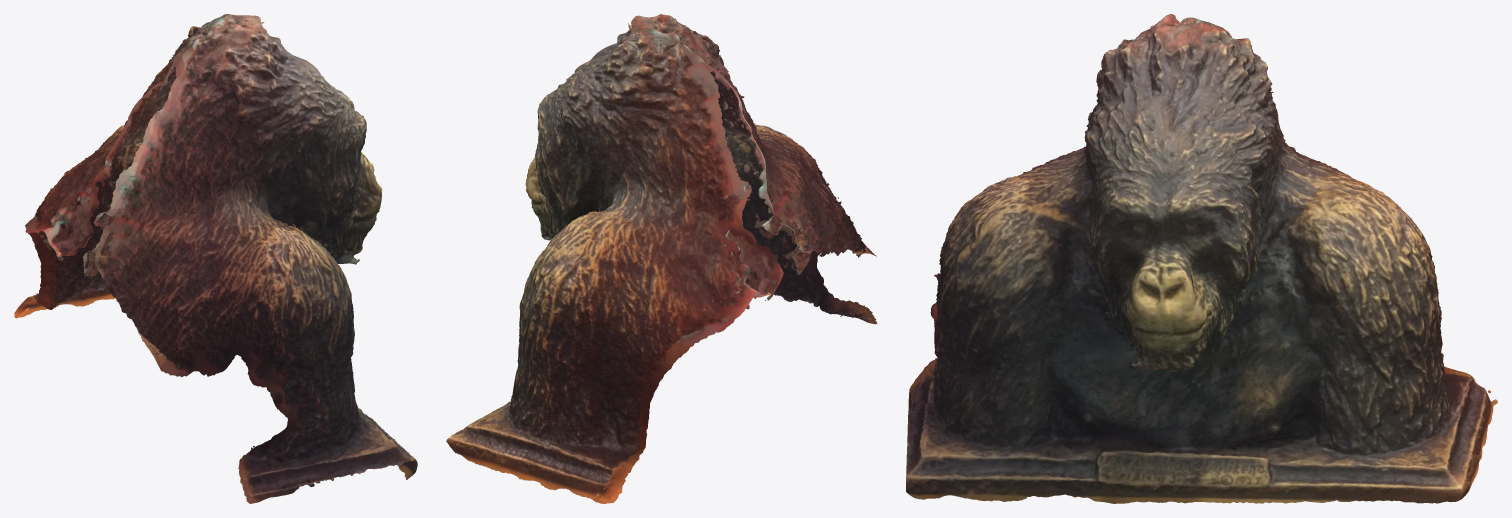
Rendered from sf-the-old-man-of-mikeno-9c6b7f.glb.
3 renders of one model, left to right at view 1: azimuth 30°, elevation 25°; view 2: azimuth 150°, elevation 25°; view 3: azimuth 270°, elevation 25°, orthographic. The views are drawn at different scales.
Parts seen in each view (by area): view 1: Object_2; view 2: Object_2; view 3: Object_2.
Part boxes in pixels (<box>): Object_2: <box>14,14,417,503</box>; Object_2: <box>446,14,877,503</box>; Object_2: <box>906,14,1497,503</box>.
Size of the model in its own units: 4.79 by 6.31 by 7.52.
Materials: 1 (1 with a texture image).
